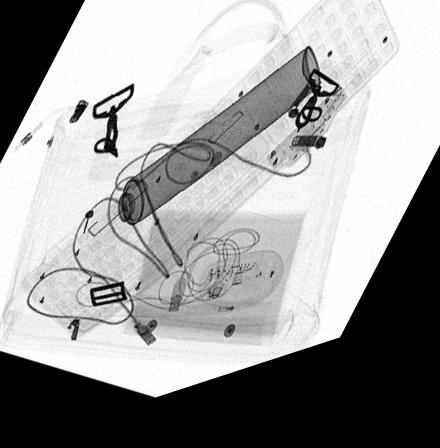Sprayer: (98, 63, 322, 246)
